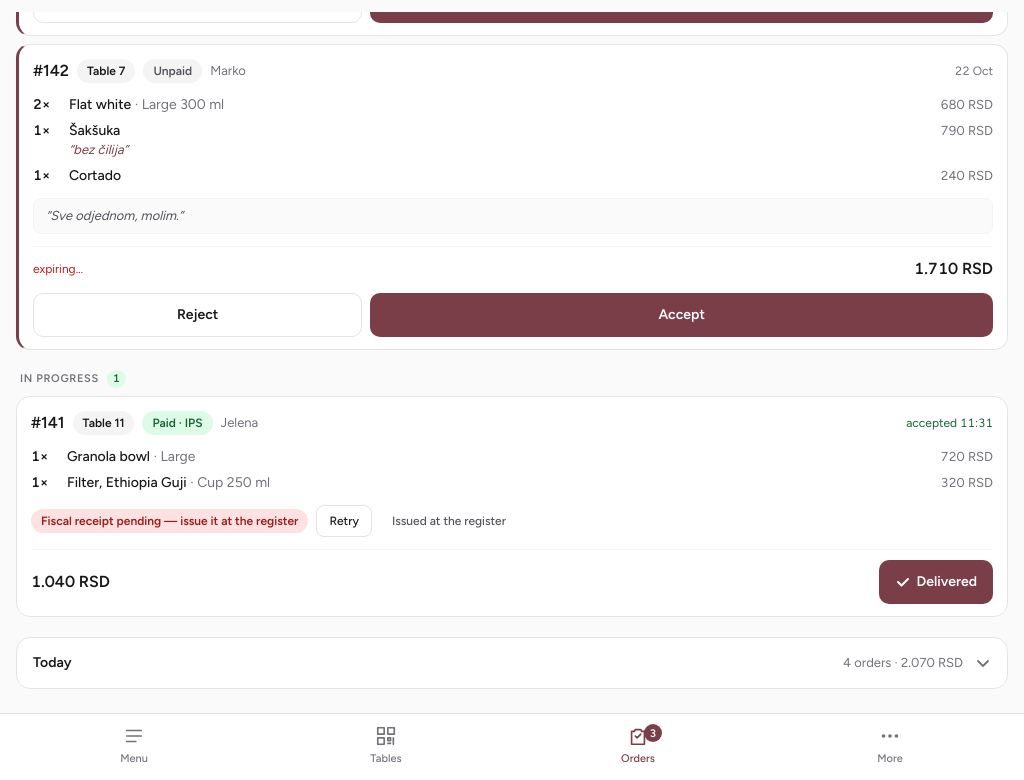
waiter screen → receipt issued by hand › lets the waiter mark a failed fiscalisation as issued at the register (no retry, no duplicate)
(page scrolled)
Click the button with aria-label "Receipt issued at the register for #141" at (449, 521), box x1=380 y1=505 x2=518 y2=537
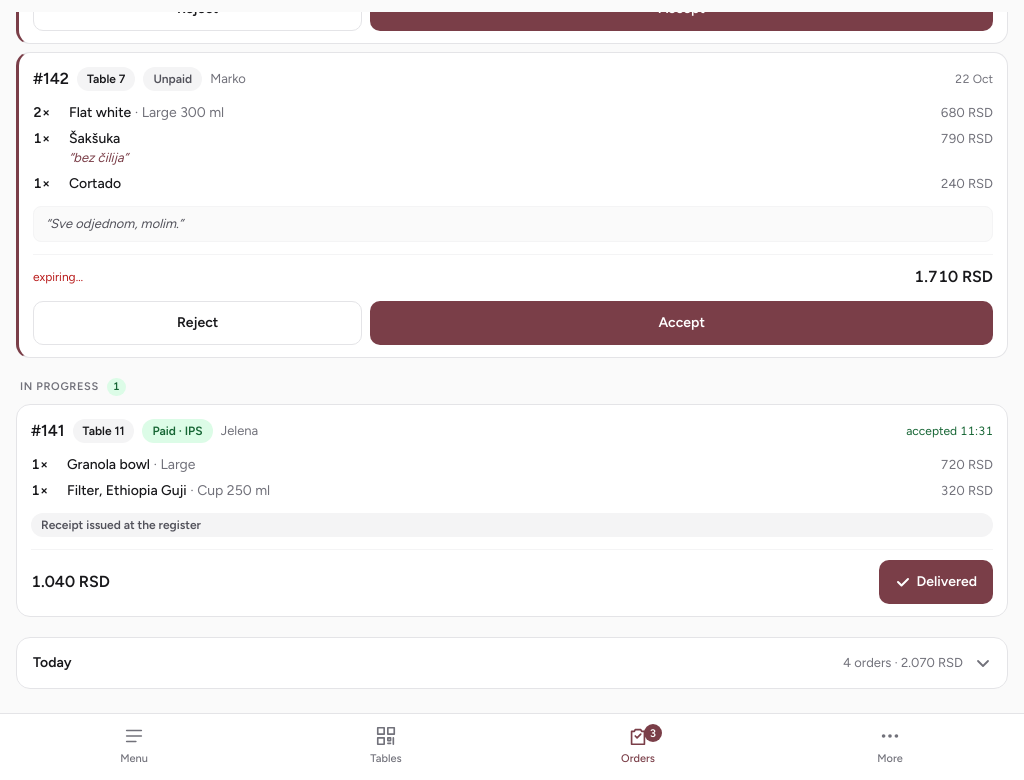
expect the text "Paid · IPS" is shown: met, box x1=142 y1=419 x2=213 y2=443
expect the button "Retry" is gone: met
